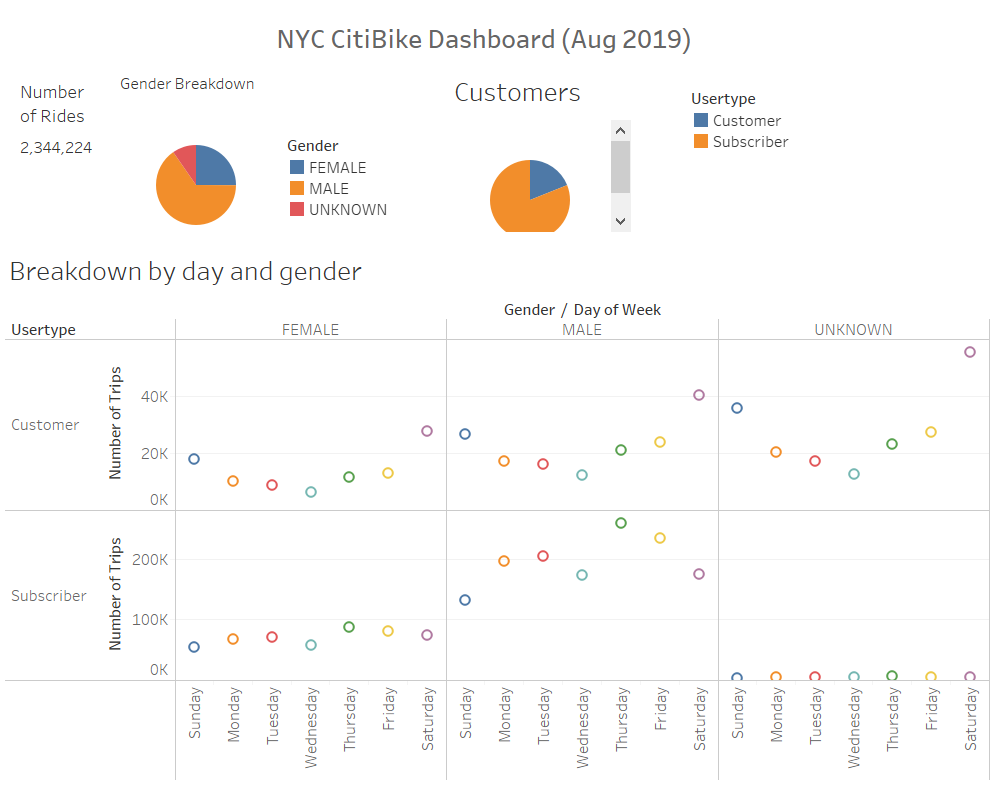

The page's visual inventory and layout, read from the dashboard file:
{"tool":"tableau","page":{"name":"Dashboard 1","canvas":[1000,800],"ordinal":0},"visuals":[{"type":"worksheet","box":[14,14,944,57]},{"type":"worksheet","title":"Gender Breakdown","mark":"Pie","box":[118,73,186,207]},{"type":"worksheet","title":"Customers","mark":"Pie","box":[452,74,197,162]},{"type":"worksheet","title":"Number of Rides","mark":"Automatic","box":[18,79,124,118]},{"type":"worksheet","title":"Customers","mark":"Pie","param":"[federated.1k51naj1cjx4vj0zrm2dd0ump7yu].[none:usertype:nk]","box":[693,92,140,64]},{"type":"worksheet","title":"Gender Breakdown","mark":"Pie","param":"[federated.1k51naj1cjx4vj0zrm2dd0ump7yu].[none:Calculation_1401745389979369473:n","box":[289,139,140,85]},{"type":"worksheet","title":"Breakdown by day and gender","mark":"Shape","rows":["usertype","modified-201908-citibike-tripdata.csv_210B2038E55449FCA8B386"],"cols":["Calculation_1401745389979369473","Calculation_1401745390217584648"],"box":[7,253,985,532]}]}

Visuals, with their boxes in screenshot pixels (x1, y1, x2, y2), scaled from the page's 1000x800 canvas onto the 991x788 screenshot:
worksheet: (14, 14, 949, 70)
"Gender Breakdown" worksheet (Pie marks): (117, 72, 301, 276)
"Customers" worksheet (Pie marks): (448, 73, 643, 232)
"Number of Rides" worksheet: (18, 78, 141, 194)
"Customers" worksheet (Pie marks): (687, 91, 826, 154)
"Gender Breakdown" worksheet (Pie marks): (286, 137, 425, 221)
"Breakdown by day and gender" worksheet (Shape marks): (7, 249, 983, 773)
